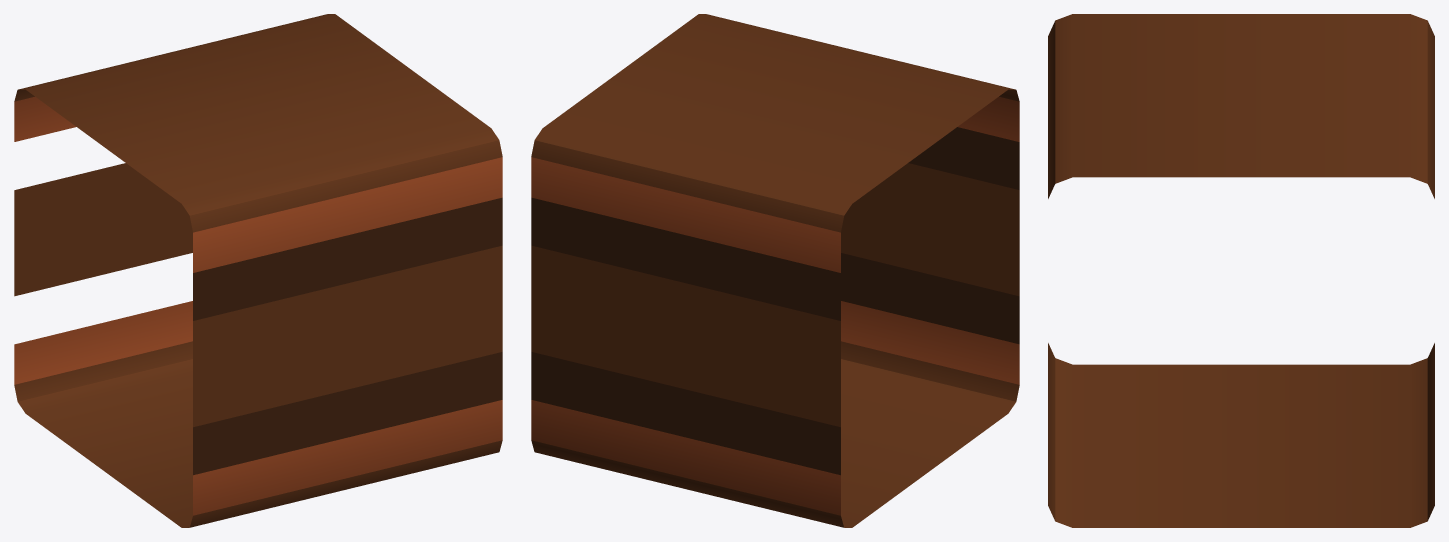
The model's file is Cube_Dirt_1x1Center.fbx.
The picture shows the model from 3 angles, left to right: view 1: azimuth 30°, elevation 25°; view 2: azimuth 150°, elevation 25°; view 3: azimuth 270°, elevation 25°; orthographic projection. The views are drawn at different scales.
Visible parts, largest first — view 1: Cube_Dirt_1x1Center; view 2: Cube_Dirt_1x1Center; view 3: Cube_Dirt_1x1Center.
Part boxes in pixels (bbox=[...]): Cube_Dirt_1x1Center: bbox=[14, 14, 502, 527]; Cube_Dirt_1x1Center: bbox=[531, 14, 1019, 527]; Cube_Dirt_1x1Center: bbox=[1048, 14, 1434, 527].
Size of the model in its own units: 200 by 200 by 200.
